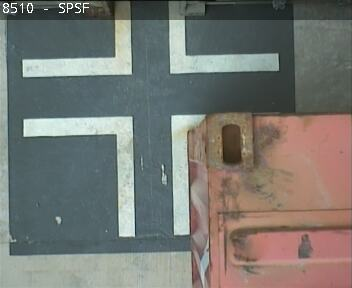groundmarker_1: (23, 113, 208, 236), (22, 1, 279, 78)
